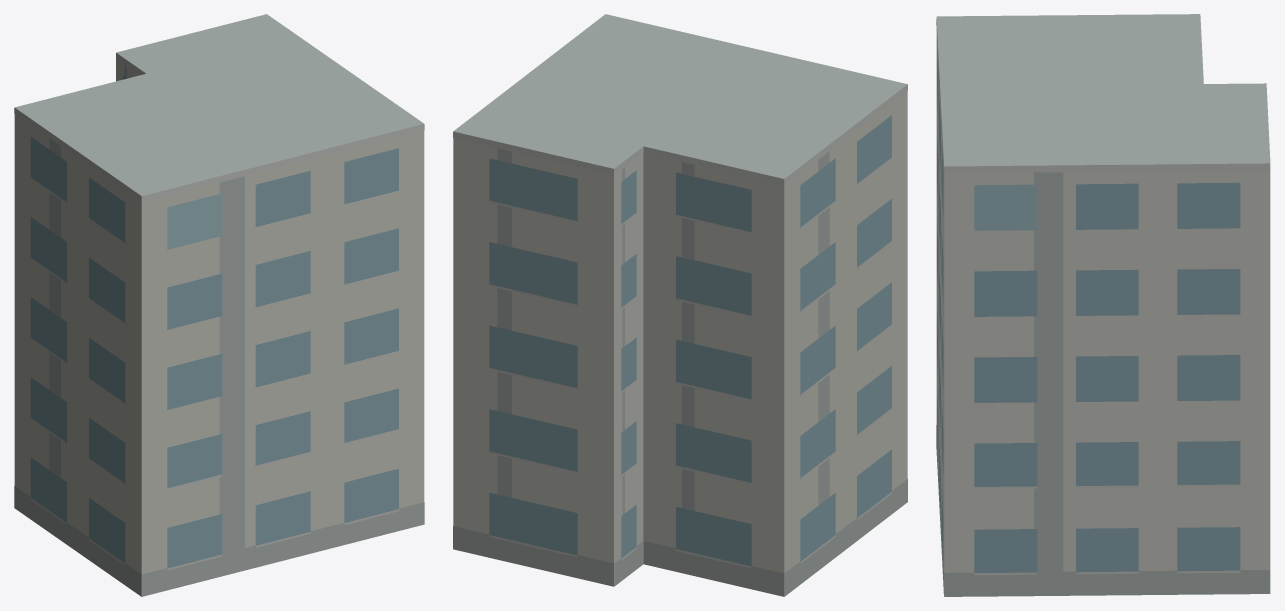
The model's file is residential-6d1002d6-5ea0-4dca-896e-446ce45d9911.glb.
3 renders of one model, left to right at view 1: azimuth 30°, elevation 25°; view 2: azimuth 150°, elevation 25°; view 3: azimuth 270°, elevation 25°, orthographic. The views are drawn at different scales.
Visible parts, largest first — view 1: residential-6d1002d6-5ea0-4dca-896e-446ce45d9911.tmp; view 2: residential-6d1002d6-5ea0-4dca-896e-446ce45d9911.tmp; view 3: residential-6d1002d6-5ea0-4dca-896e-446ce45d9911.tmp.
Part boxes in pixels (<box>): residential-6d1002d6-5ea0-4dca-896e-446ce45d9911.tmp: <box>14,14,424,596</box>; residential-6d1002d6-5ea0-4dca-896e-446ce45d9911.tmp: <box>453,14,907,596</box>; residential-6d1002d6-5ea0-4dca-896e-446ce45d9911.tmp: <box>936,14,1270,596</box>.
Size of the model in its own units: 11.59 by 15.25 by 10.73.
